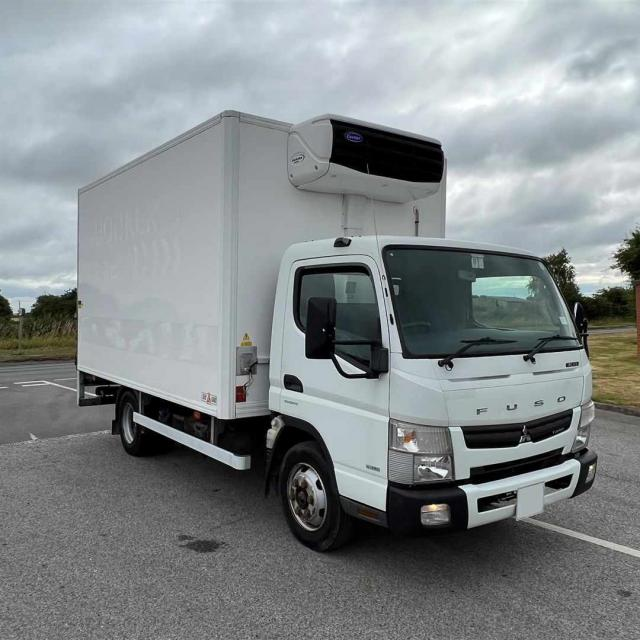truck: (76, 110, 598, 547)
